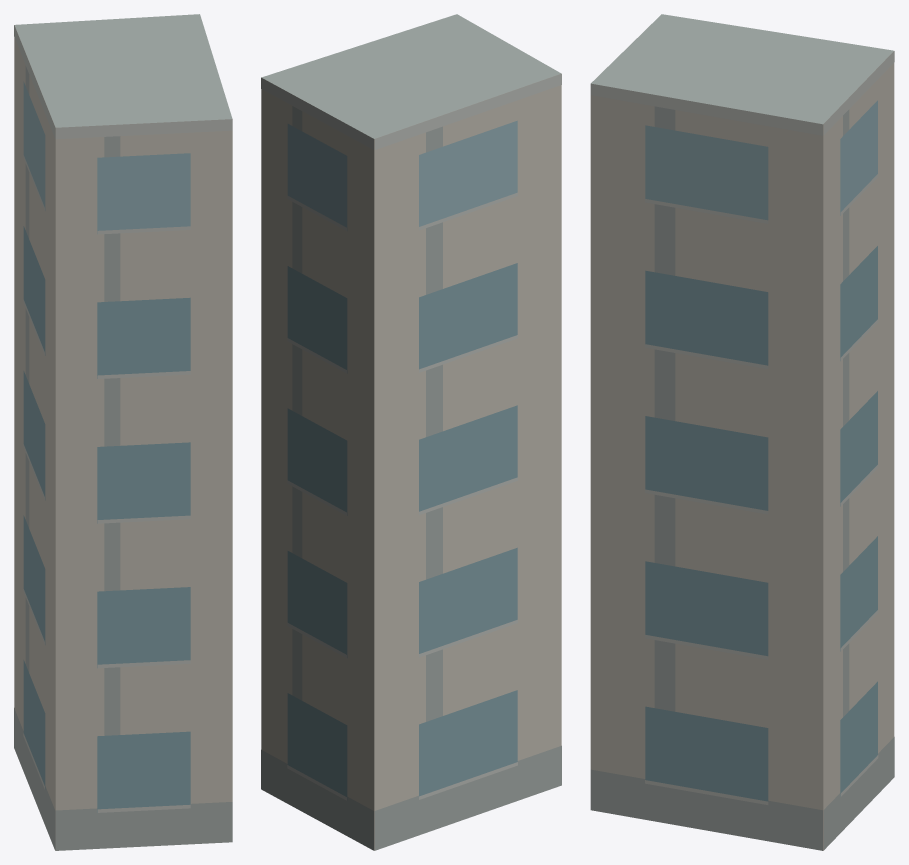
The model's file is survey-upis-32909370.glb.
The picture shows the model from 3 angles, left to right: view 1: azimuth 30°, elevation 25°; view 2: azimuth 150°, elevation 25°; view 3: azimuth 270°, elevation 25°; orthographic projection. The views are drawn at different scales.
Visible parts, largest first — view 1: survey-upis-32909370.tmp; view 2: survey-upis-32909370.tmp; view 3: survey-upis-32909370.tmp.
Boxes of the visible parts, left/top/right/bottom form: survey-upis-32909370.tmp: left=14, top=14, right=232, bottom=850; survey-upis-32909370.tmp: left=261, top=14, right=561, bottom=850; survey-upis-32909370.tmp: left=590, top=14, right=894, bottom=850.
Bounding box in the file's own units: 4.97 × 15.25 × 5.79.
